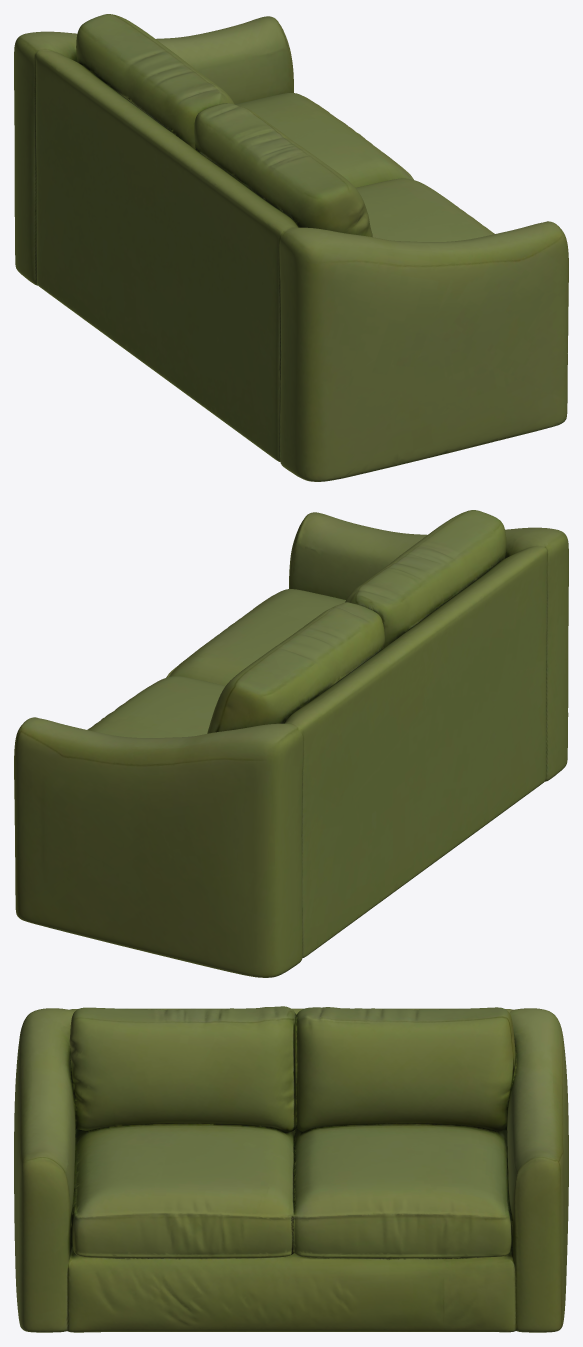
Rendered from c08-stylized.glb.
3 views of the same model, one above another, from view 1: azimuth 30°, elevation 25°; view 2: azimuth 150°, elevation 25°; view 3: azimuth 270°, elevation 25° (orthographic). The views are drawn at different scales.
Visible parts, largest first — view 1: tripo_node_5abcf466-91c2-4b6e-b0f9-5bd49a62f672; view 2: tripo_node_5abcf466-91c2-4b6e-b0f9-5bd49a62f672; view 3: tripo_node_5abcf466-91c2-4b6e-b0f9-5bd49a62f672.
Part boxes in pixels (x1,y1,x2,y2): tripo_node_5abcf466-91c2-4b6e-b0f9-5bd49a62f672: [14, 14, 568, 481]; tripo_node_5abcf466-91c2-4b6e-b0f9-5bd49a62f672: [14, 510, 568, 977]; tripo_node_5abcf466-91c2-4b6e-b0f9-5bd49a62f672: [14, 1006, 568, 1332].
Bounding box in the file's own units: 0.5059 × 0.465 × 1.
1 material, 1 textured.
